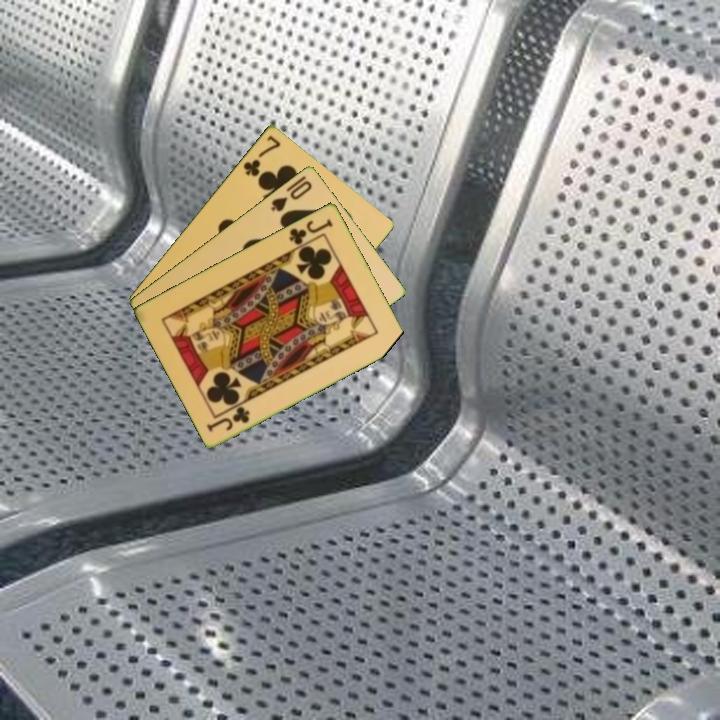10s: (267, 177, 315, 214)
7c: (240, 131, 283, 179)
Jc: (285, 215, 336, 248), (203, 403, 253, 434)
